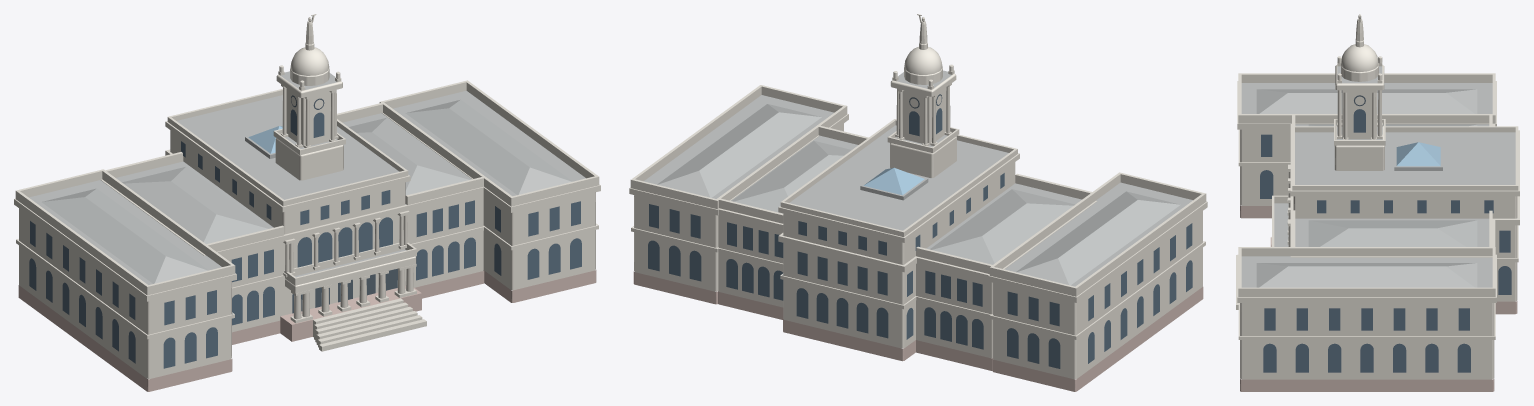
The model's file is nyc-city-hall.glb.
3 views of the same model, side by side, from view 1: azimuth 30°, elevation 25°; view 2: azimuth 150°, elevation 25°; view 3: azimuth 270°, elevation 25° (orthographic). The views are drawn at different scales.
Parts seen in each view (by area): view 1: New York City Hall; view 2: New York City Hall; view 3: New York City Hall.
Part boxes in pixels (left/top/right/bottom): New York City Hall: left=14, top=14, right=600, bottom=391; New York City Hall: left=629, top=14, right=1207, bottom=391; New York City Hall: left=1236, top=14, right=1519, bottom=391.
Bounding box in the file's own units: 67.1 × 39.15 × 37.15.
